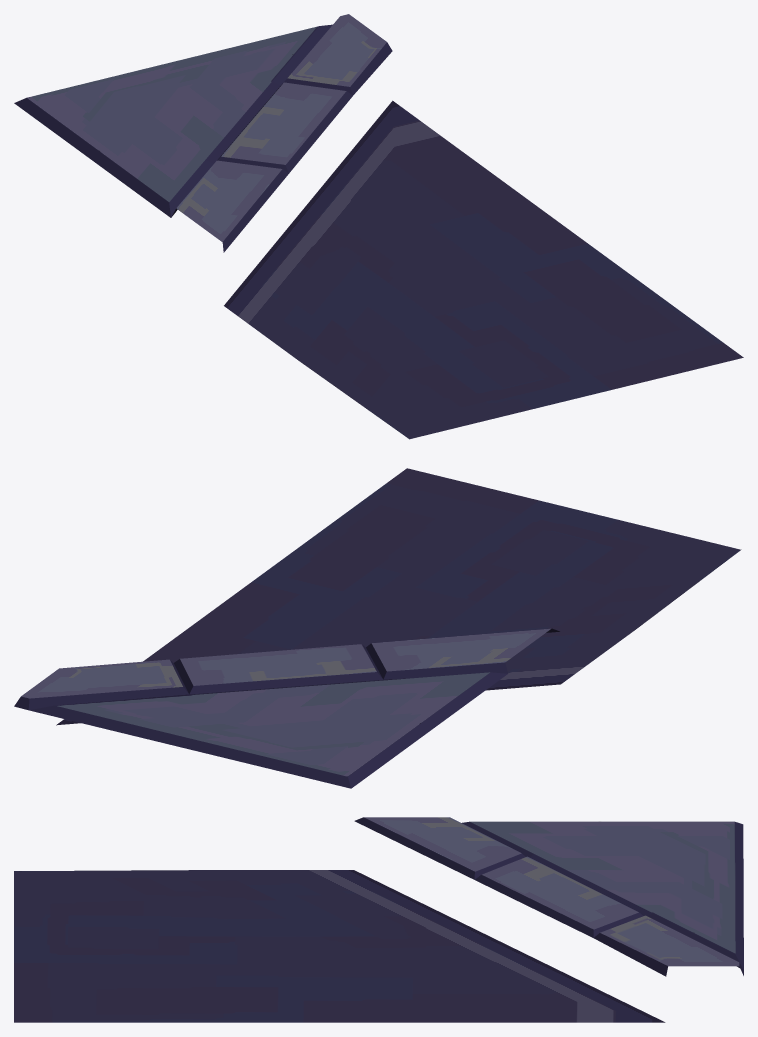
File: Route_Diagonale.fbx
3 views of the same model, one above another, from view 1: azimuth 30°, elevation 25°; view 2: azimuth 150°, elevation 25°; view 3: azimuth 270°, elevation 25° (orthographic). The views are drawn at different scales.
Visible parts, largest first — view 1: Plane.007; view 2: Plane.007; view 3: Plane.007.
Part boxes in pixels (x1,y1,x2,y2): Plane.007: [14, 14, 743, 439]; Plane.007: [14, 468, 741, 788]; Plane.007: [14, 817, 743, 1022].
Bounding box in the file's own units: 200 × 33.3 × 404.
1 material, 1 textured.
